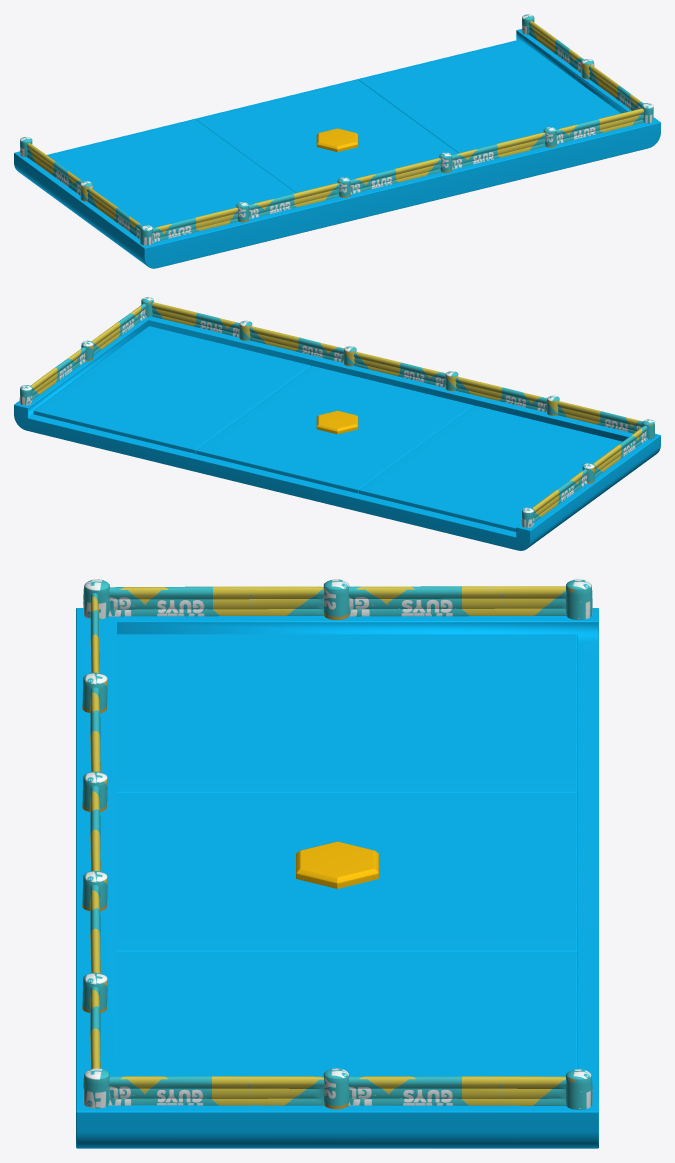
File: ScaleTestFloor.fbx
3 views of the same model, one above another, from view 1: azimuth 30°, elevation 25°; view 2: azimuth 150°, elevation 25°; view 3: azimuth 270°, elevation 25° (orthographic). The views are drawn at different scales.
Parts seen in each view (by area): view 1: Combined_Mesh__root__scene__3_36, Combined_Mesh__root__scene__3_35, Combined_Mesh__root__scene__2_35, Hexagon_01_MO_0; view 2: Combined_Mesh__root__scene__3_36, Combined_Mesh__root__scene__3_35, Combined_Mesh__root__scene__2_35, Hexagon_01_MO_0; view 3: Combined_Mesh__root__scene__3_36, Combined_Mesh__root__scene__3_35, Combined_Mesh__root__scene__2_35, Hexagon_01_MO_0.
Part boxes in pixels (x1=…): Combined_Mesh__root__scene__3_36: x1=48, y1=40, x2=620, y2=227; Combined_Mesh__root__scene__3_35: x1=14, y1=29, x2=660, y2=268; Combined_Mesh__root__scene__2_35: x1=20, y1=14, x2=653, y2=245; Hexagon_01_MO_0: x1=316, y1=128, x2=358, y2=151; Combined_Mesh__root__scene__3_36: x1=33, y1=326, x2=622, y2=531; Combined_Mesh__root__scene__3_35: x1=14, y1=316, x2=660, y2=550; Combined_Mesh__root__scene__2_35: x1=19, y1=297, x2=655, y2=527; Hexagon_01_MO_0: x1=316, y1=410, x2=358, y2=434; Combined_Mesh__root__scene__3_36: x1=117, y1=634, x2=577, y2=1076; Combined_Mesh__root__scene__3_35: x1=76, y1=608, x2=598, y2=1148; Combined_Mesh__root__scene__2_35: x1=82, y1=579, x2=592, y2=1109; Hexagon_01_MO_0: x1=296, y1=841, x2=378, y2=888.
Bounding box in the file's own units: 57.83 × 4.25 × 25.35.
